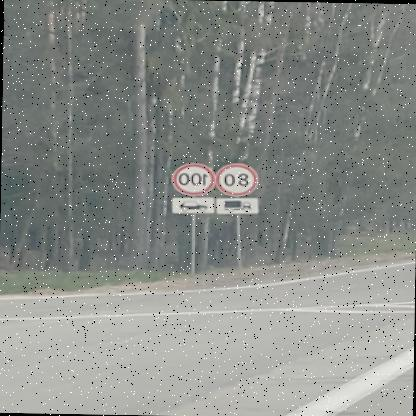speedlimit: (217, 160, 261, 193), (175, 161, 216, 194)
